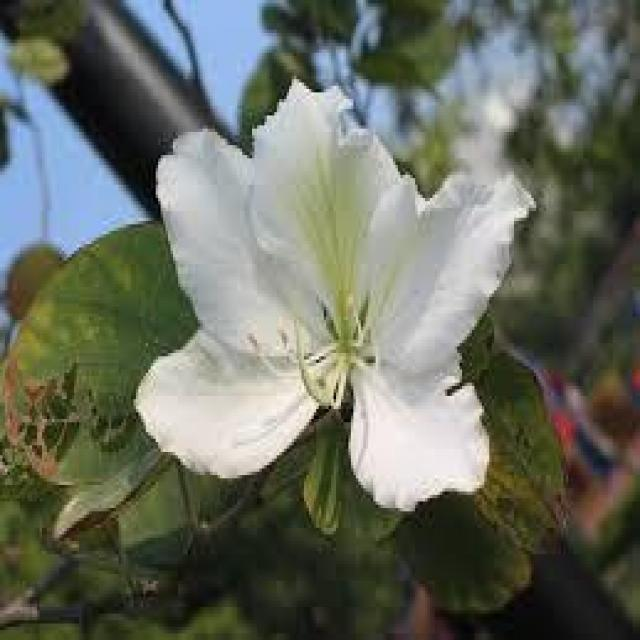organic waste: (143, 74, 509, 507)
